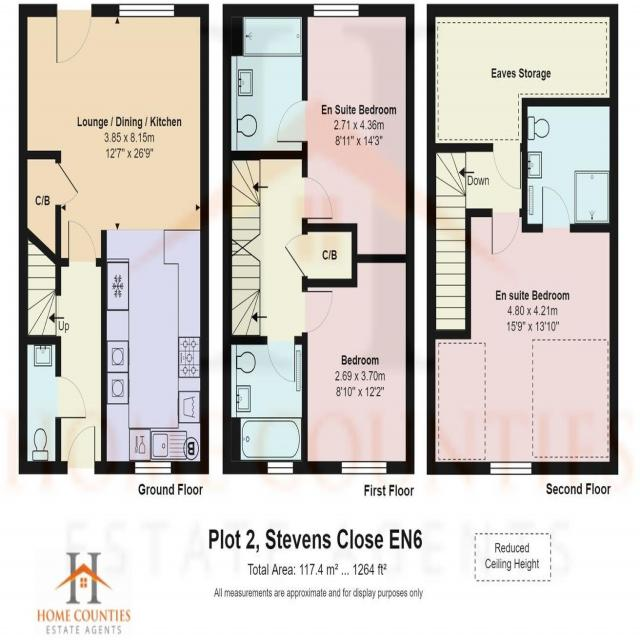DOOR: (55, 2, 93, 65), (66, 424, 97, 474), (55, 374, 87, 420), (301, 176, 334, 220), (541, 184, 571, 232), (276, 99, 308, 144), (67, 219, 97, 267), (491, 208, 521, 255), (266, 336, 296, 383), (302, 290, 334, 334), (492, 143, 521, 191)
ROOM: (18, 3, 209, 475), (426, 185, 619, 476), (276, 4, 415, 263), (301, 254, 415, 475)
WINDOW: (118, 3, 175, 18), (313, 3, 360, 18), (341, 460, 387, 475), (489, 461, 532, 476), (134, 461, 172, 475), (267, 460, 294, 475)
